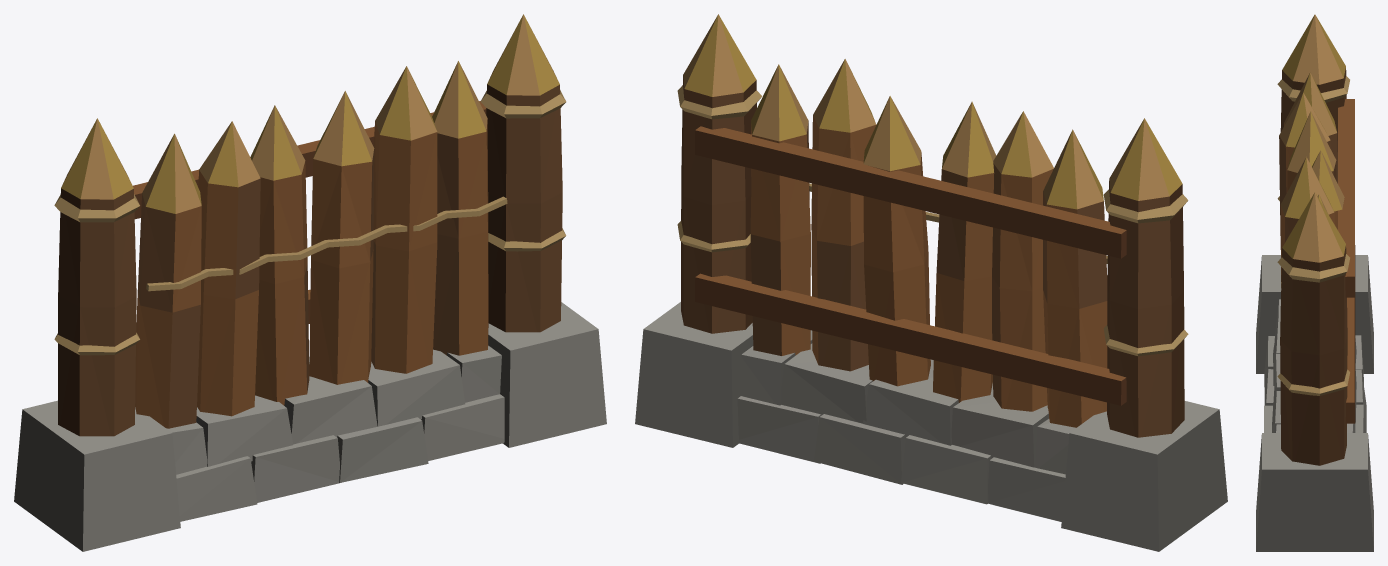
The model's file is palisade_stone.glb.
The picture shows the model from 3 angles, left to right: view 1: azimuth 30°, elevation 25°; view 2: azimuth 150°, elevation 25°; view 3: azimuth 270°, elevation 25°; orthographic projection. The views are drawn at different scales.
Parts seen in each view (by area): view 1: palisade_stone; view 2: palisade_stone; view 3: palisade_stone.
Part boxes in pixels (x1,y1,x2,y2): palisade_stone: [14, 14, 606, 551]; palisade_stone: [635, 14, 1227, 551]; palisade_stone: [1256, 14, 1373, 551].
Bounding box in the file's own units: 2.46 × 1.78 × 0.56.
